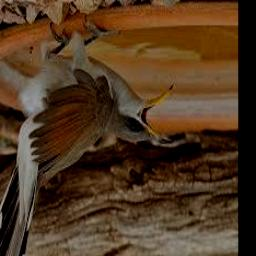Cuckoo: (0, 22, 174, 256)
